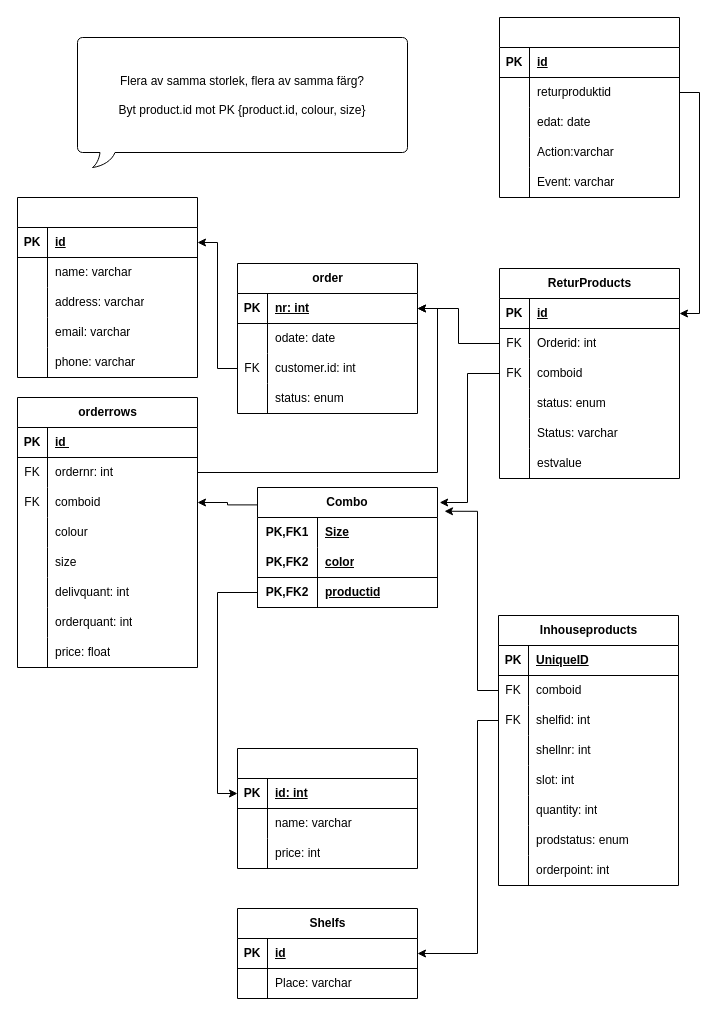
Image size: 725x1016. Some labels were removed from this diagram. Each missing label, with the box of its shape:
Customer: (16, 196, 198, 378)
History: (498, 16, 680, 198)
Products: (236, 748, 418, 868)
